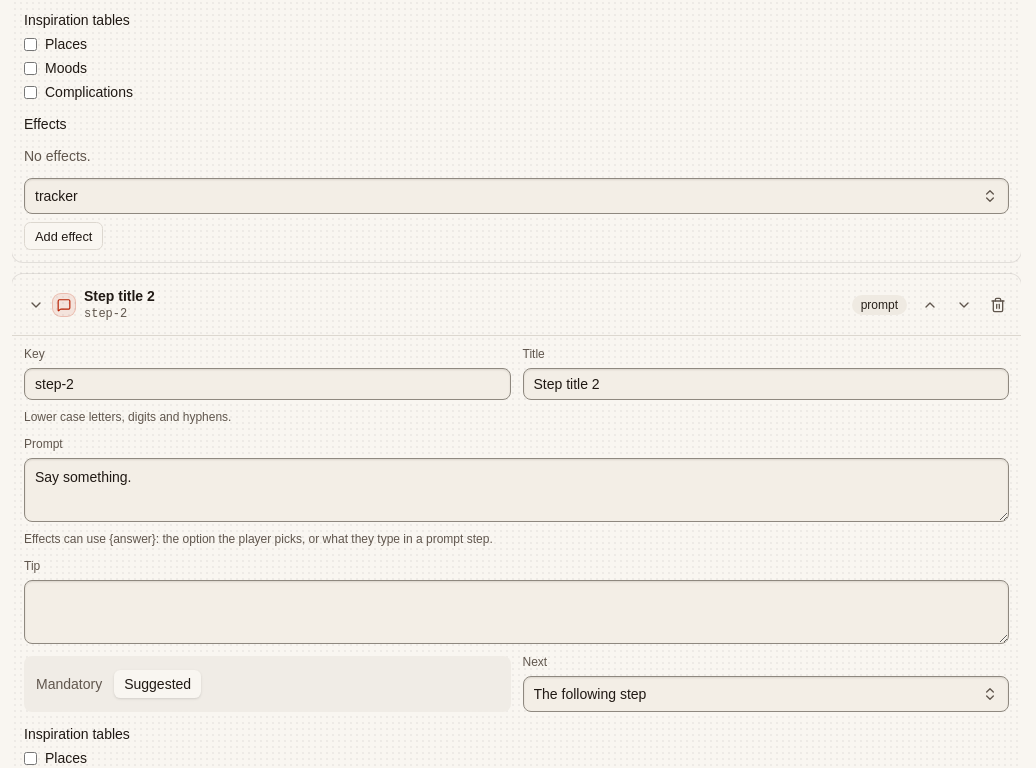
it: the step cards › keeps both of two quick edits on different cards
(page scrolled)
Replace the text in the field labelled "Title" with "Second". click: (766, 384)
box: x1=522 y1=368 x2=1009 y2=400
(page scrolled)
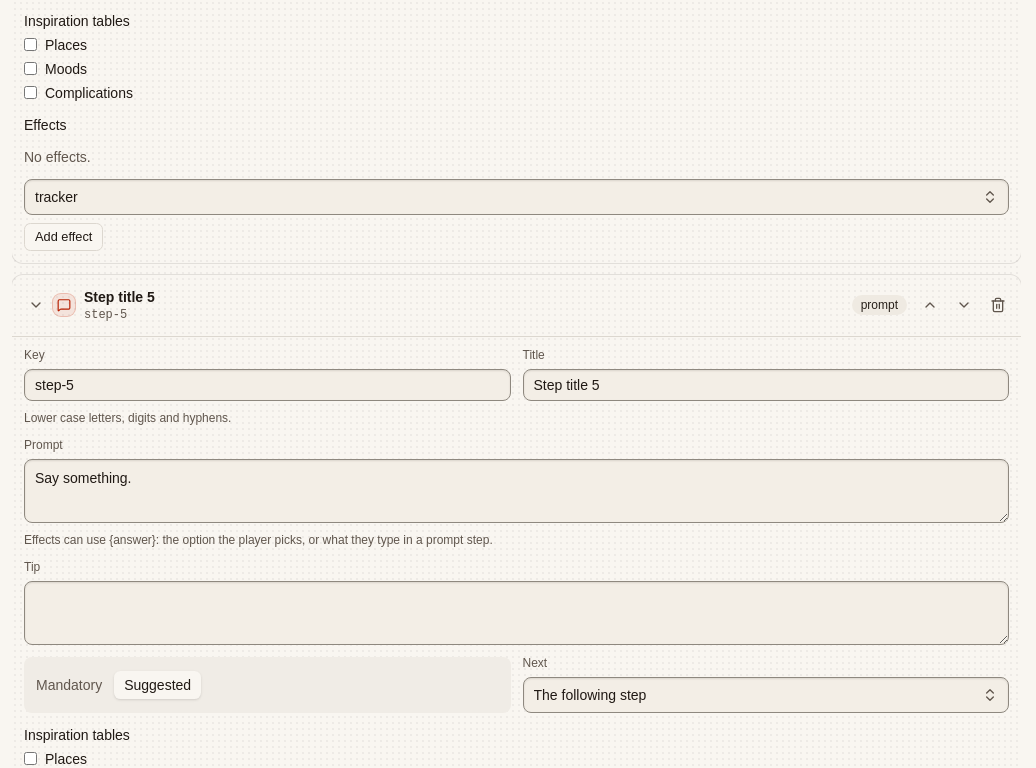
Replace the text in the field labelled "Title" with "Fifth". click: (766, 385)
box: x1=522 y1=369 x2=1009 y2=401
(page scrolled)
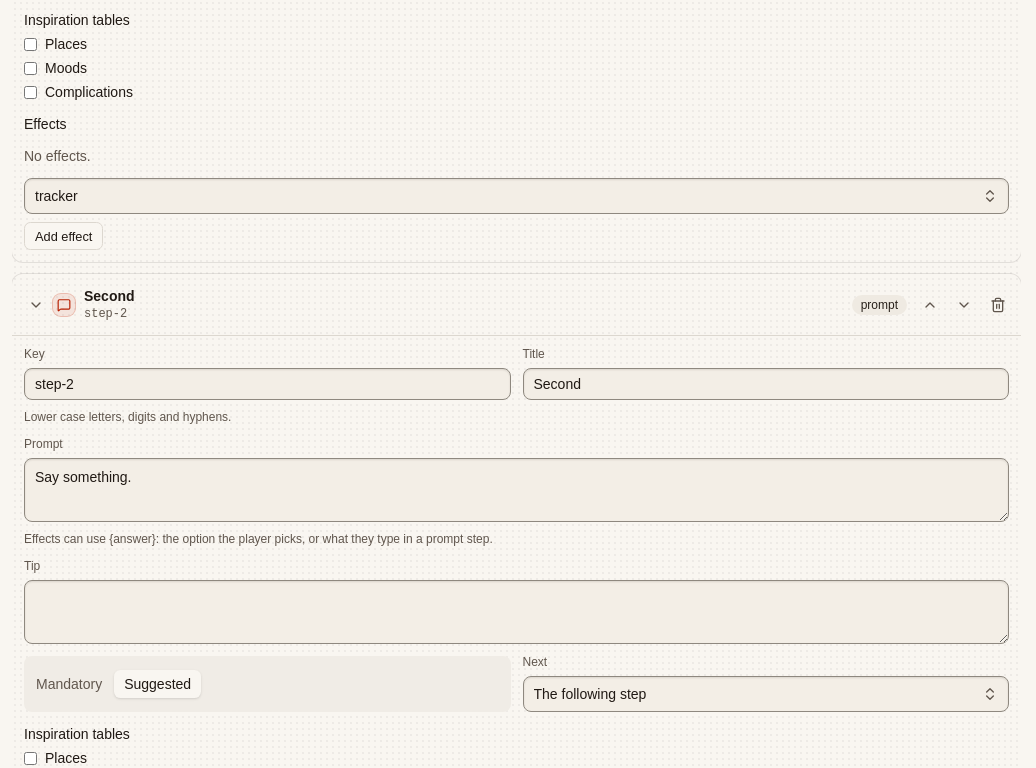
Replace the text in the field labelled "Title" with "Second again". click: (766, 384)
box: x1=522 y1=368 x2=1009 y2=400
(page scrolled)
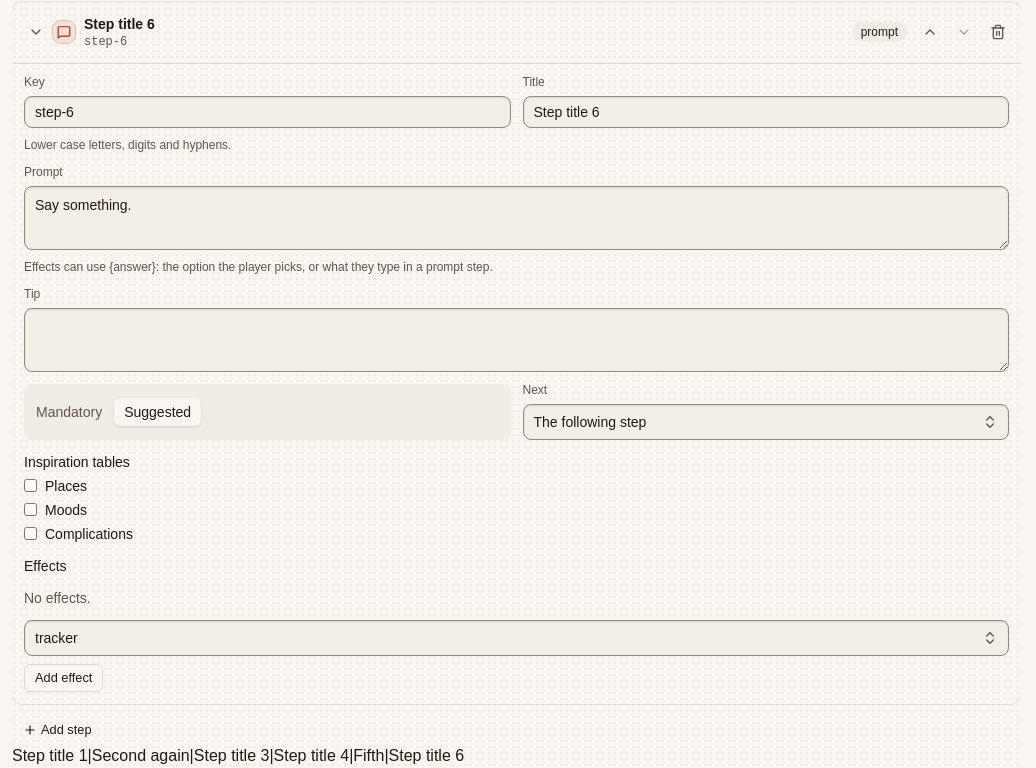
Expected: the text named "Titles" reads "Step title 1|Second again|Step title 3|Step title 4|Fifth|Step title 6", x1=12 y1=747 x2=464 y2=764
